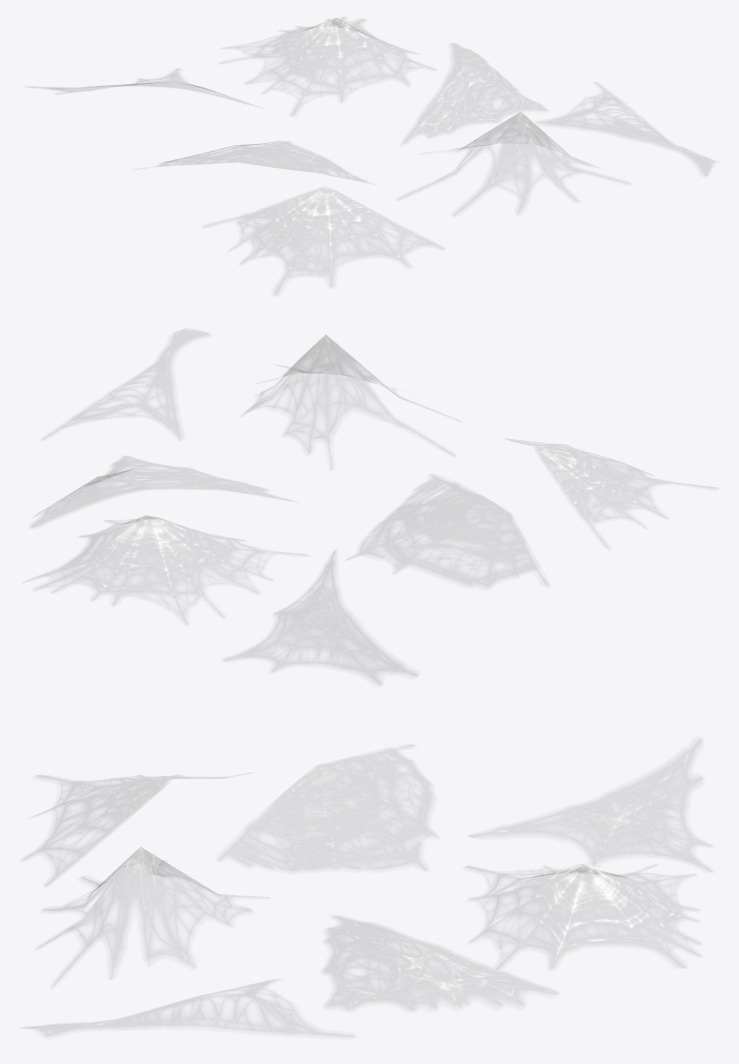
File: terr_cobwebs.glb
The picture shows the model from 3 angles, top to bottom: view 1: azimuth 30°, elevation 25°; view 2: azimuth 150°, elevation 25°; view 3: azimuth 270°, elevation 25°; orthographic projection. The views are drawn at different scales.
Visible parts, largest first — view 1: cobweb.001_cobwebs_0; view 2: cobweb.001_cobwebs_0; view 3: cobweb.001_cobwebs_0.
Boxes of the visible parts, bbox=[...] form: cobweb.001_cobwebs_0: bbox=[29, 17, 715, 294]; cobweb.001_cobwebs_0: bbox=[23, 329, 716, 684]; cobweb.001_cobwebs_0: bbox=[23, 739, 712, 1036].
Bounding box in the file's own units: 1.2 × 0.2259 × 1.18.
Materials: 1 (1 with a texture image).
